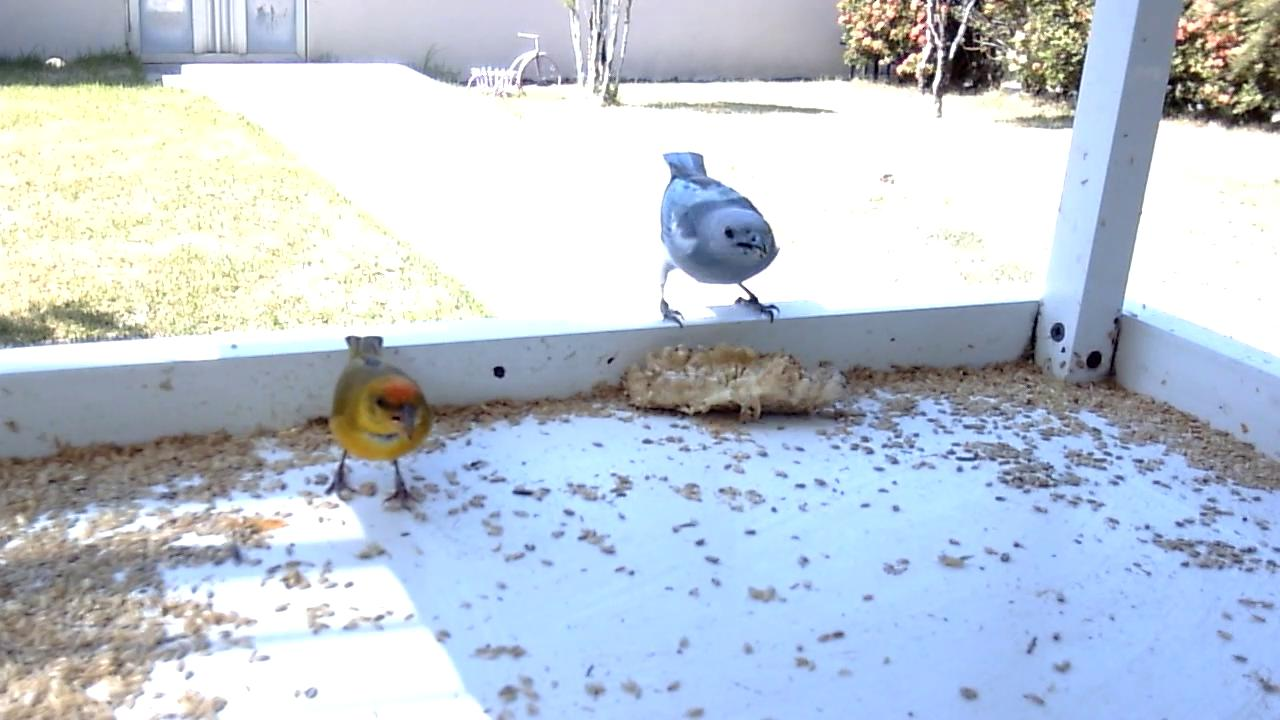canario_do_amazonas: (323, 335, 433, 518)
sanhaco_da_amazonia: (651, 150, 783, 335)
